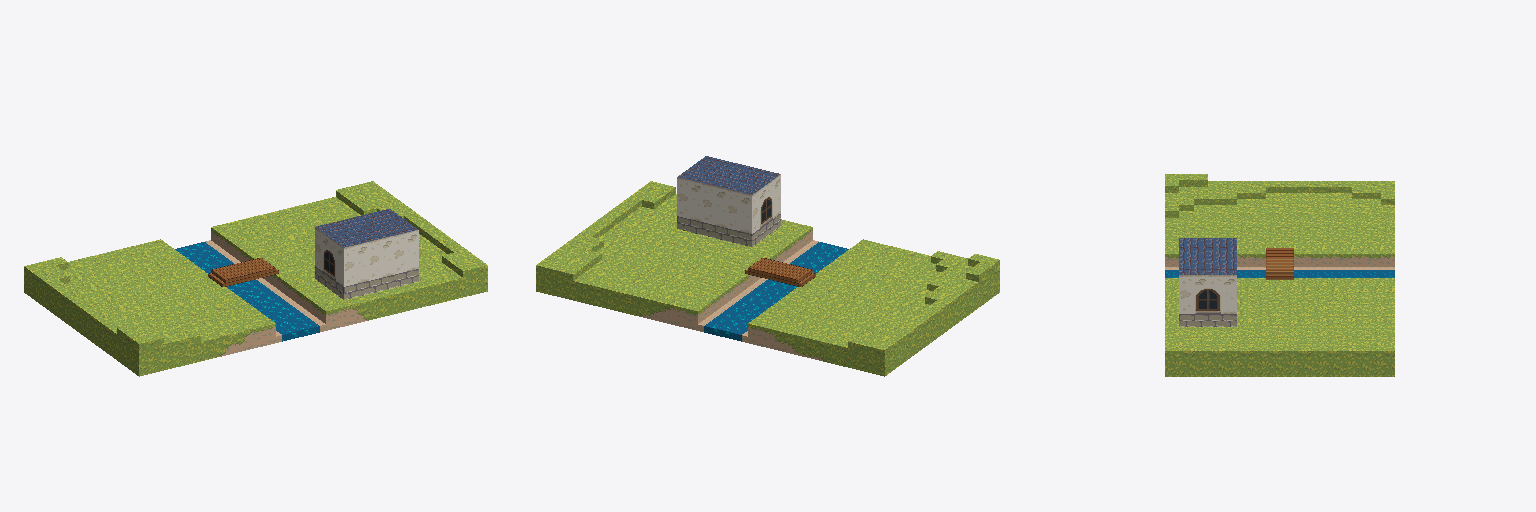
The picture shows the model from 3 angles: view 1: azimuth 30°, elevation 25°; view 2: azimuth 150°, elevation 25°; view 3: azimuth 270°, elevation 25°; orthographic projection.
Parts seen in each view (by area): view 1: Cube; view 2: Cube; view 3: Cube.
Boxes of the visible parts, box(x1,y1,x2,y2) form: Cube: box(24, 181, 487, 376); Cube: box(536, 156, 999, 376); Cube: box(1165, 174, 1394, 376).
Bounding box in the file's own units: 28 × 5.5 × 16.
Materials: 1 (1 with a texture image).